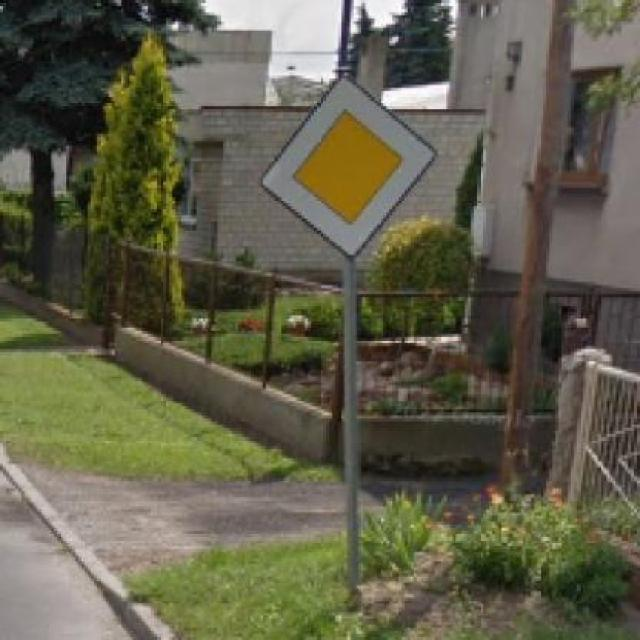Droga z pierwszenstwem: (256, 70, 441, 264)
